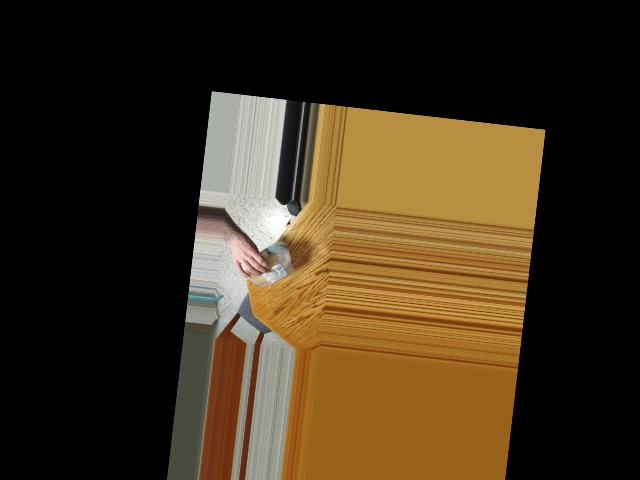cheese: (235, 240, 295, 291)
